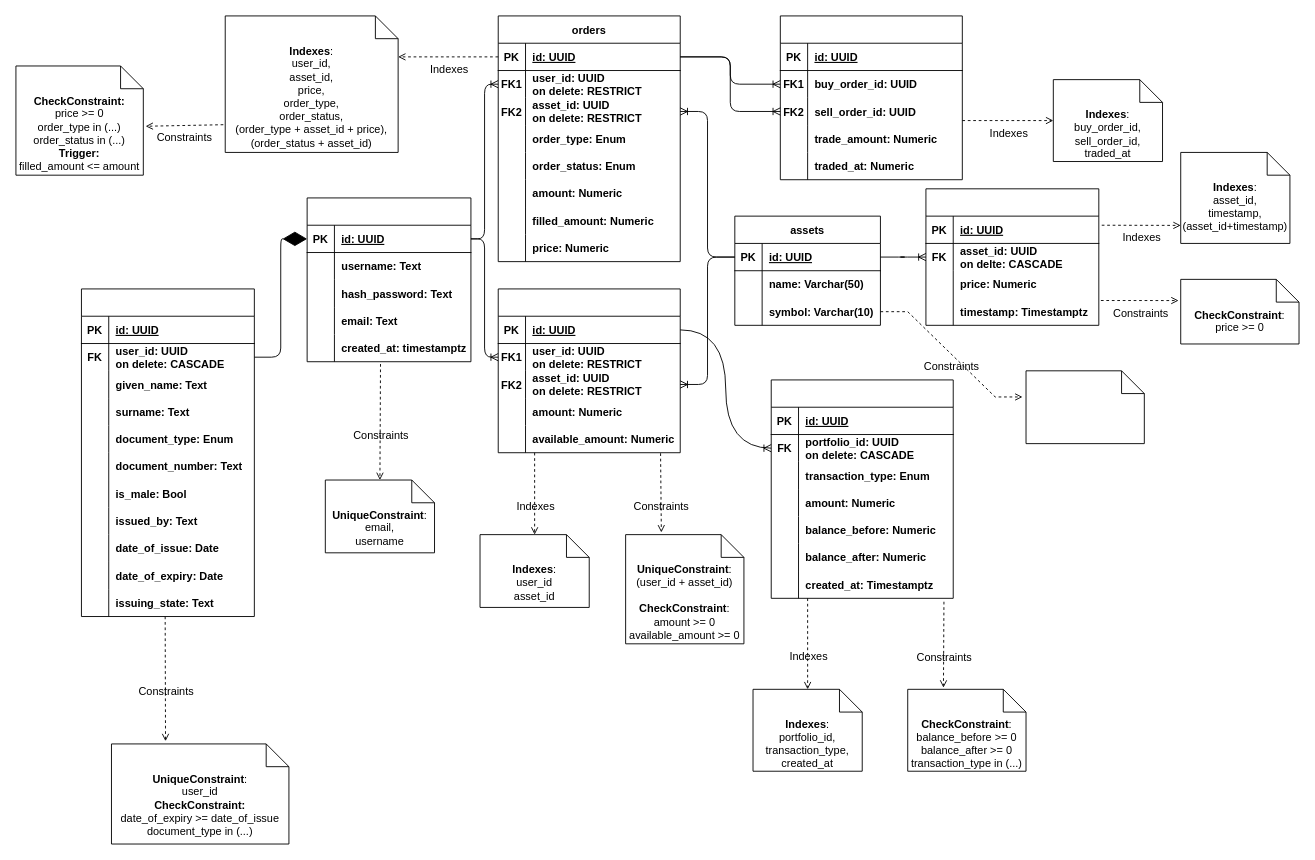
Some shapes in this 1315 by 860 pixel diagram are drawn without their labels. The box of each missing label's shape, as (x1, y1, x2, y2) in pixels:
asset_prices: (925, 188, 1099, 325)
portfolio_transactions: (770, 379, 953, 598)
portfolios: (497, 288, 680, 453)
Trades: (779, 15, 962, 180)
UniqueConstraint : name, symbol: (1025, 370, 1144, 444)
user_verification_docs: (81, 288, 254, 617)
users: (306, 197, 471, 362)
